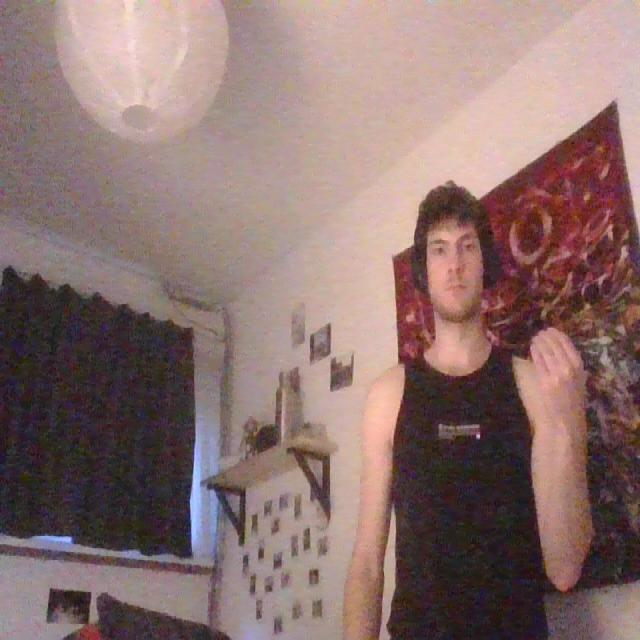forward: (526, 322, 592, 426)
